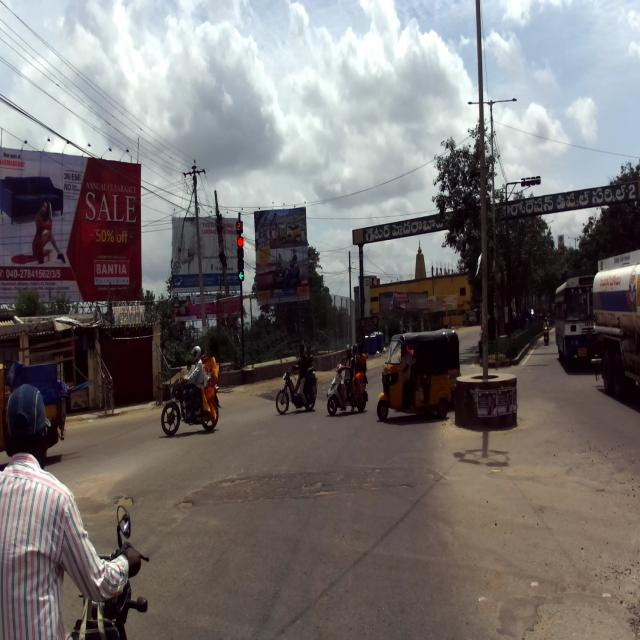autorickshaw: (0, 326, 93, 470), (374, 329, 452, 422)
motorcycle_Honda: (160, 366, 220, 437)
motorcycle_TVS: (42, 505, 150, 639)
scooter: (326, 355, 370, 415)
